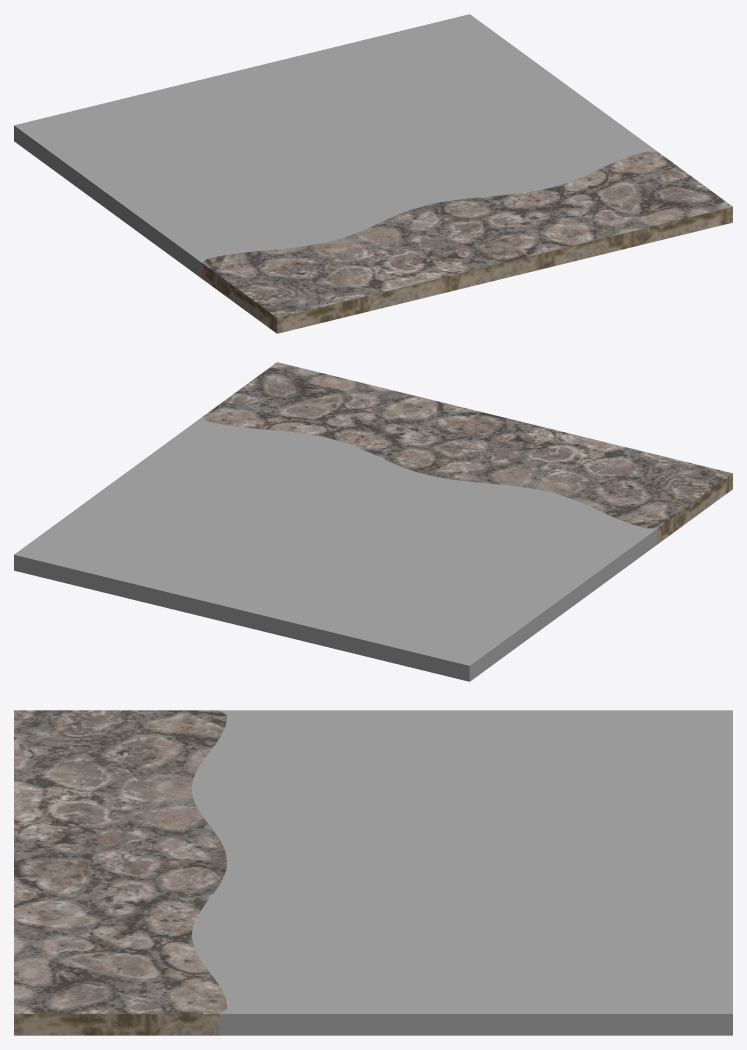
The model's file is ModuleGroundGrassEdge.fbx.
3 views of the same model, one above another, from view 1: azimuth 30°, elevation 25°; view 2: azimuth 150°, elevation 25°; view 3: azimuth 270°, elevation 25° (orthographic). The views are drawn at different scales.
Parts seen in each view (by area): view 1: ModuleGroundDirtTile, ModuleGroundCobblesTile, ModuleGroundCobblesEdge, ModuleGroundDirtEdge; view 2: ModuleGroundDirtTile, ModuleGroundCobblesTile, ModuleGroundDirtEdge, ModuleGroundCobblesEdge; view 3: ModuleGroundDirtTile, ModuleGroundCobblesTile, ModuleGroundDirtEdge, ModuleGroundCobblesEdge.
Part boxes in pixels (<box>): ModuleGroundDirtTile: <box>14,14,657,262</box>; ModuleGroundCobblesTile: <box>202,151,732,317</box>; ModuleGroundCobblesEdge: <box>202,207,732,333</box>; ModuleGroundDirtEdge: <box>14,125,201,278</box>; ModuleGroundDirtTile: <box>14,417,657,665</box>; ModuleGroundCobblesTile: <box>202,362,732,528</box>; ModuleGroundDirtEdge: <box>14,529,657,681</box>; ModuleGroundCobblesEdge: <box>657,473,732,543</box>; ModuleGroundDirtTile: <box>192,710,732,1013</box>; ModuleGroundCobblesTile: <box>14,710,227,1013</box>; ModuleGroundDirtEdge: <box>219,1014,732,1035</box>; ModuleGroundCobblesEdge: <box>14,1014,219,1035</box>.
Size of the model in its own units: 300 by 10 by 300.
